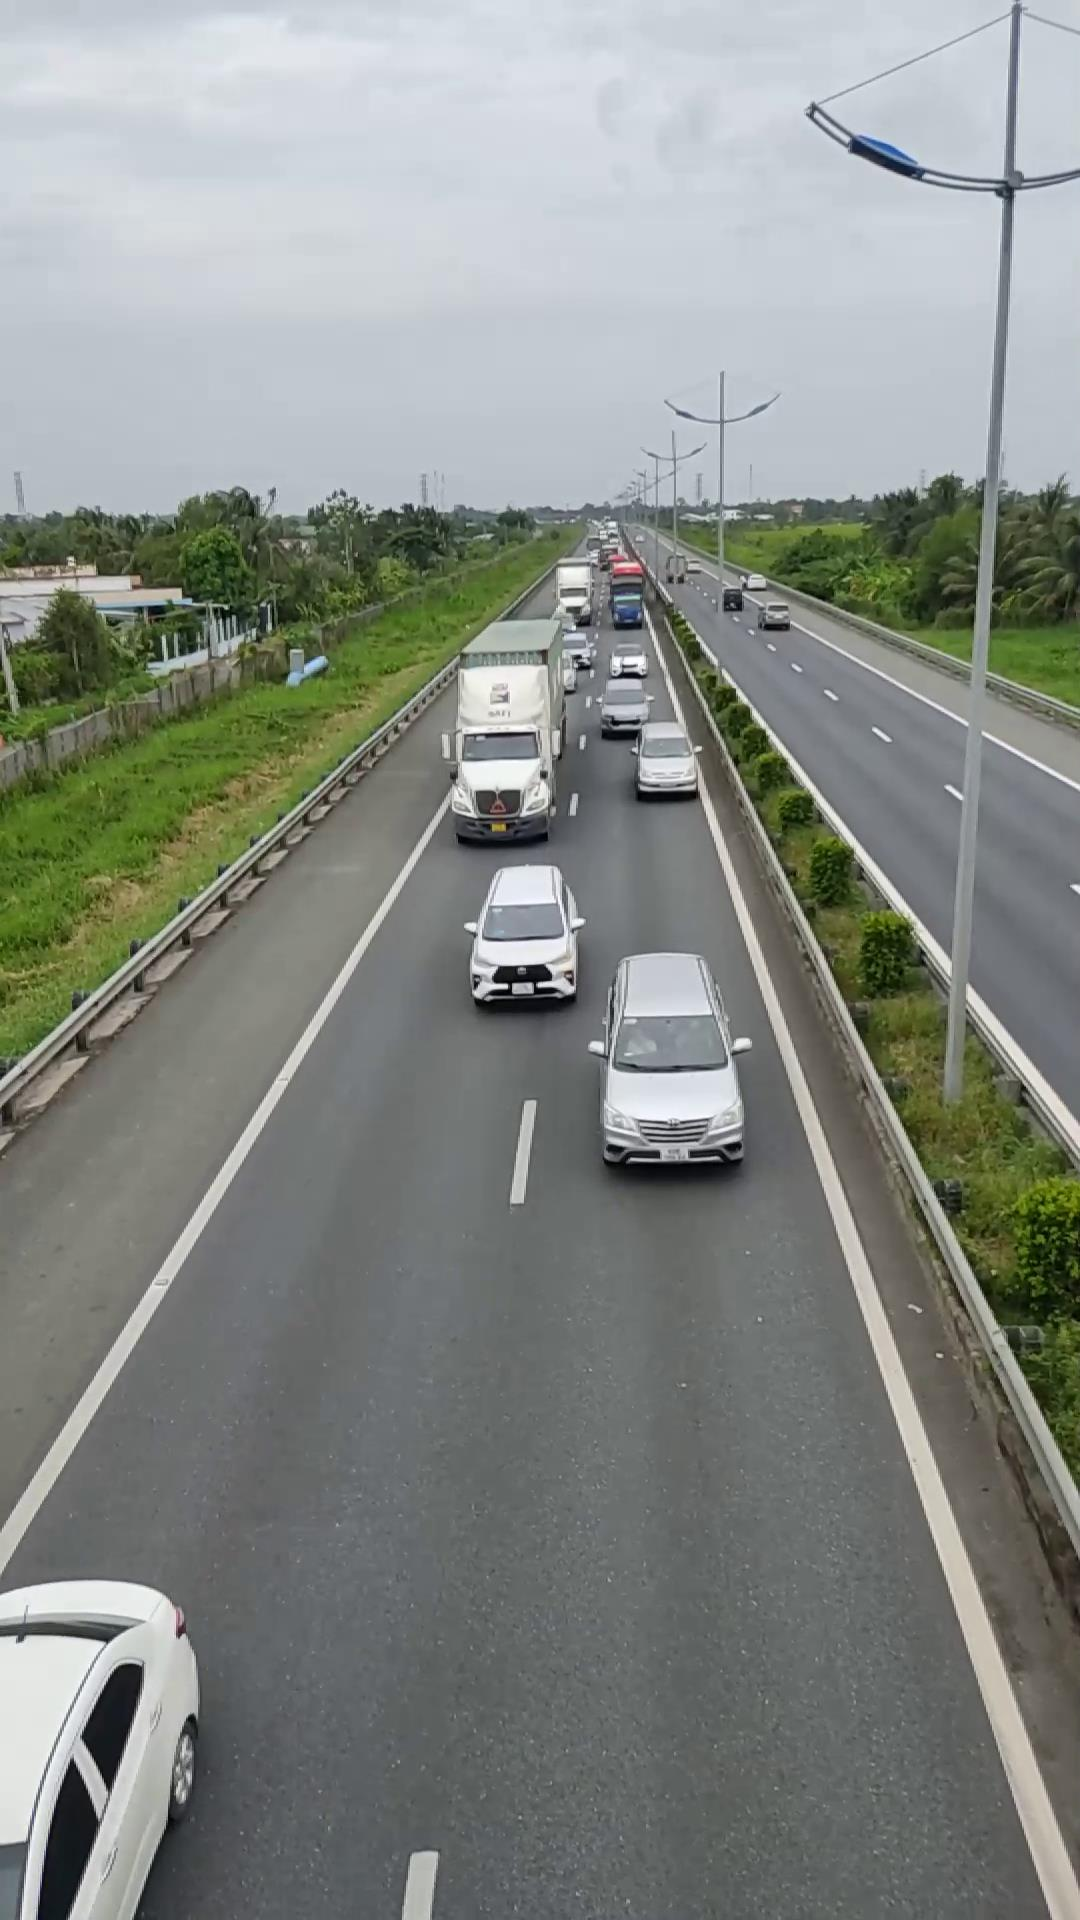car: (0, 1578, 204, 1919), (589, 949, 746, 1171), (464, 862, 585, 1006), (632, 723, 702, 796)
container: (444, 616, 571, 843)
